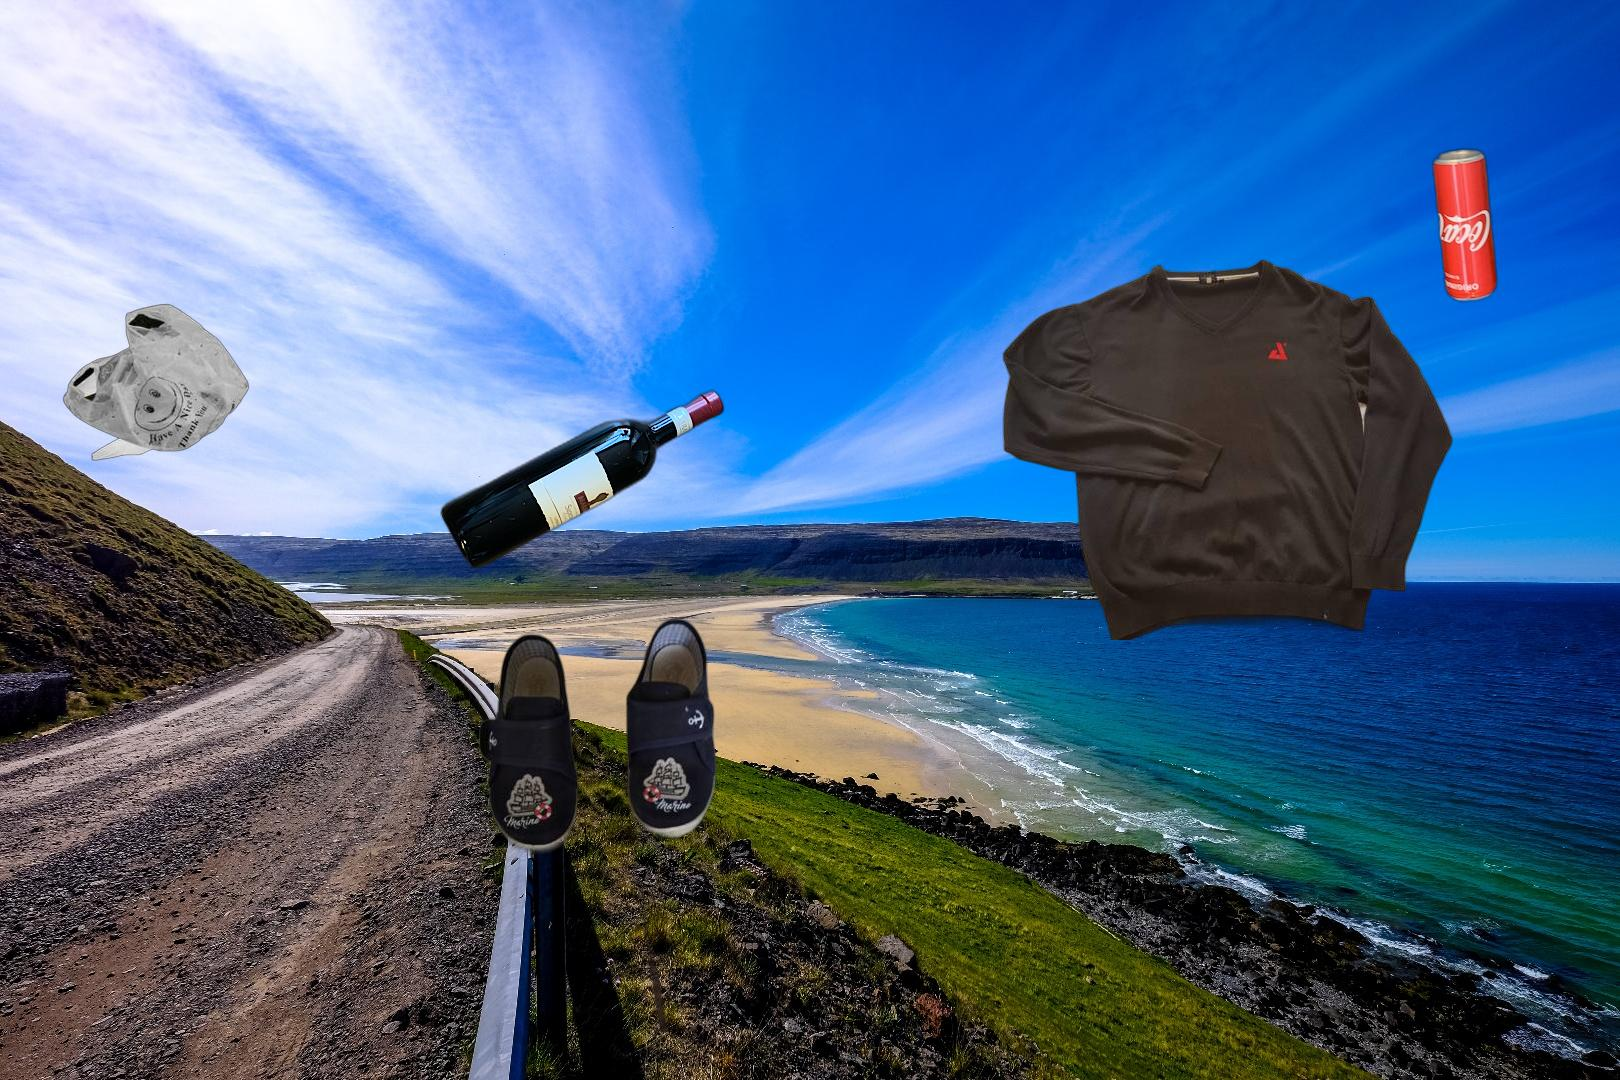clothes: (998, 256, 1457, 640)
glass: (438, 385, 729, 574)
metal-cans: (1428, 143, 1502, 307)
plastic-bag: (60, 303, 251, 463)
shoes: (476, 614, 815, 1032)
trashbox-cardboard: (600, 943, 900, 1080)
